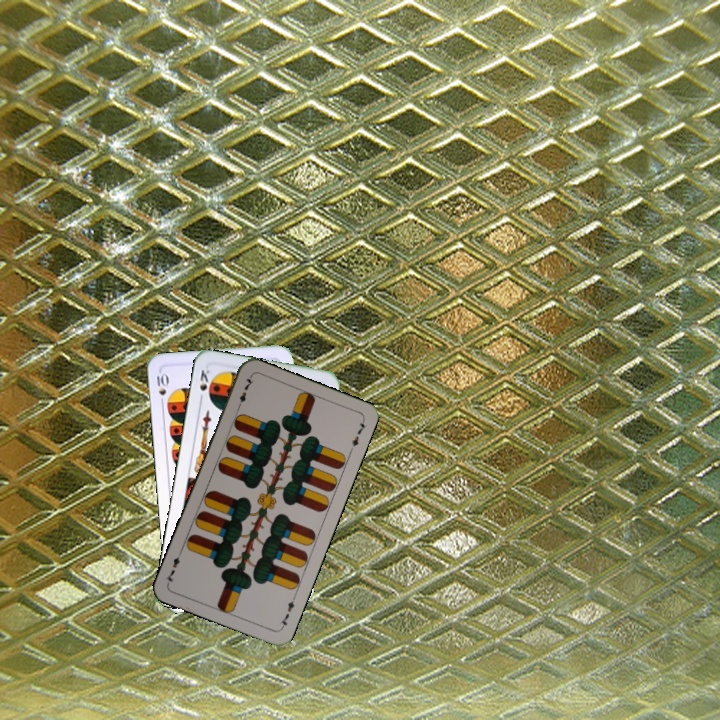E7: (234, 373, 256, 412), (277, 592, 298, 631)
S10: (152, 370, 170, 409)
SK: (195, 365, 213, 404)
